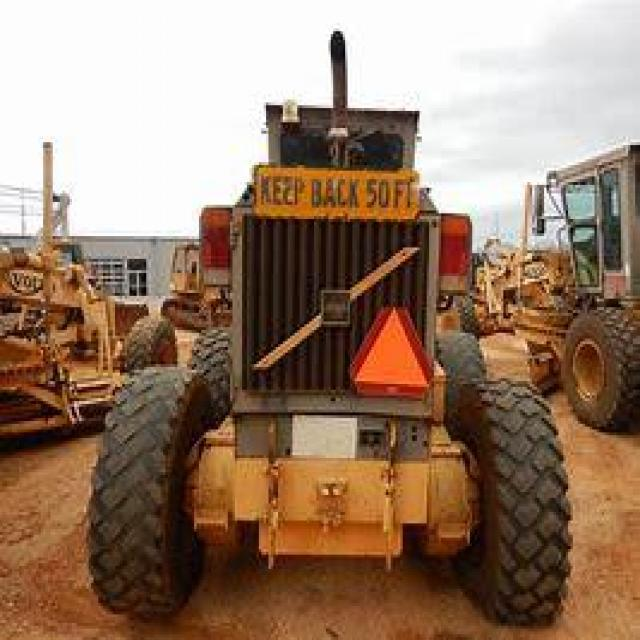Grader: (86, 82, 573, 618)
